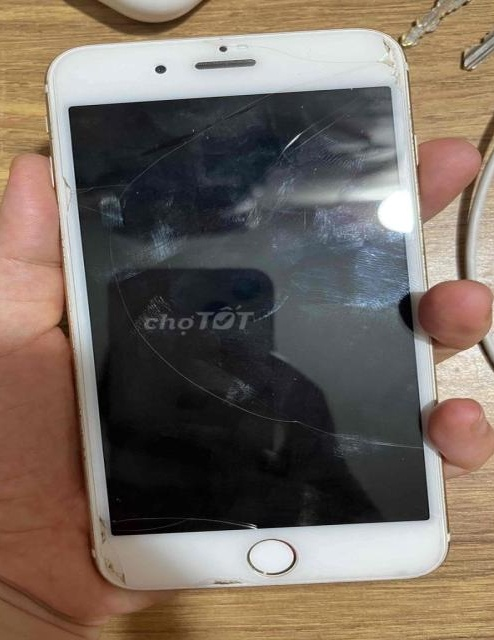physical_damage: (59, 92, 455, 469), (196, 25, 407, 88), (112, 507, 264, 538), (84, 504, 139, 583), (202, 571, 246, 588)
